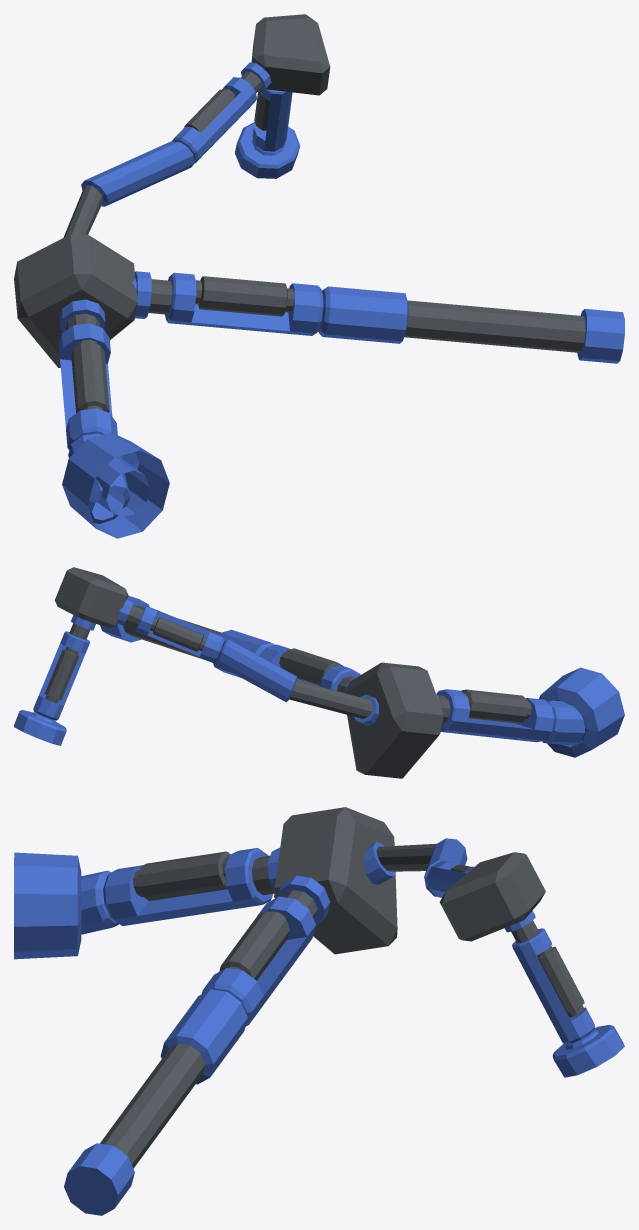
The model's file is Fighter_03_Pipes_05_Blue.fbx.
3 views of the same model, one above another, from view 1: azimuth 30°, elevation 25°; view 2: azimuth 150°, elevation 25°; view 3: azimuth 270°, elevation 25° (orthographic). The views are drawn at different scales.
Visible parts, largest first — view 1: Fighter_03_Pipes_05_Blue; view 2: Fighter_03_Pipes_05_Blue; view 3: Fighter_03_Pipes_05_Blue.
Boxes of the visible parts, x1,y1,x2,y2 form: Fighter_03_Pipes_05_Blue: (14,14,624,538); Fighter_03_Pipes_05_Blue: (14,567,624,778); Fighter_03_Pipes_05_Blue: (14,807,624,1215).
Bounding box in the file's own units: 462 × 203 × 377.
Materials: 1 (1 with a texture image).
